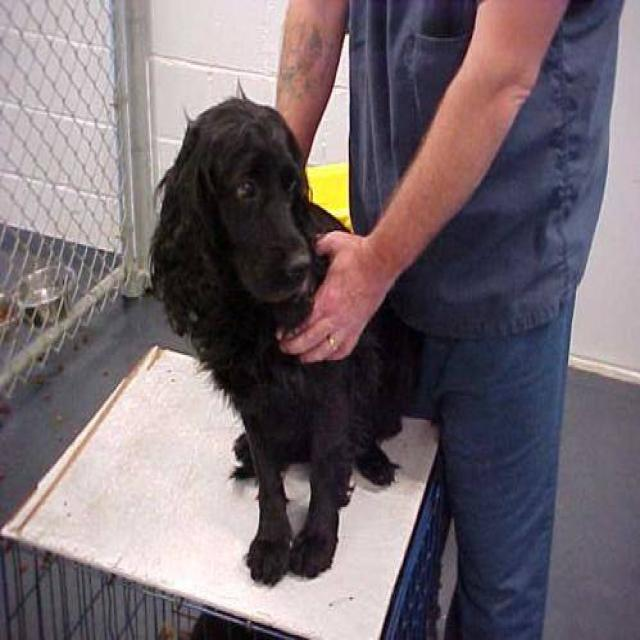dog: (146, 77, 423, 585)
